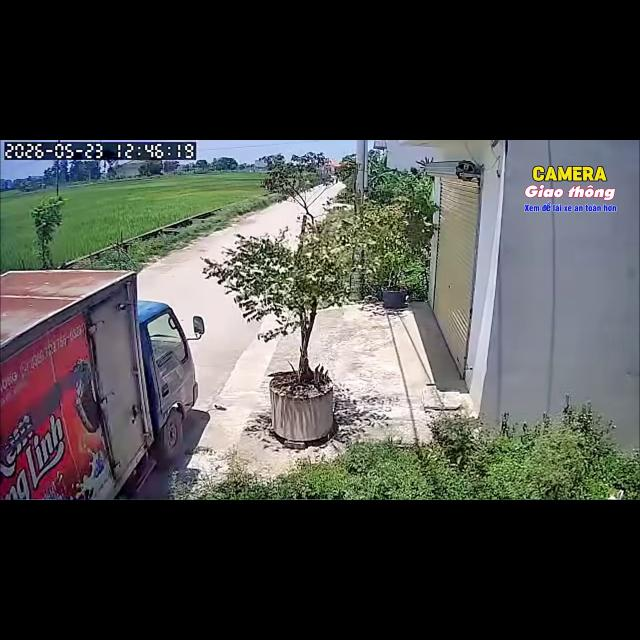truck: (0, 270, 197, 498)
